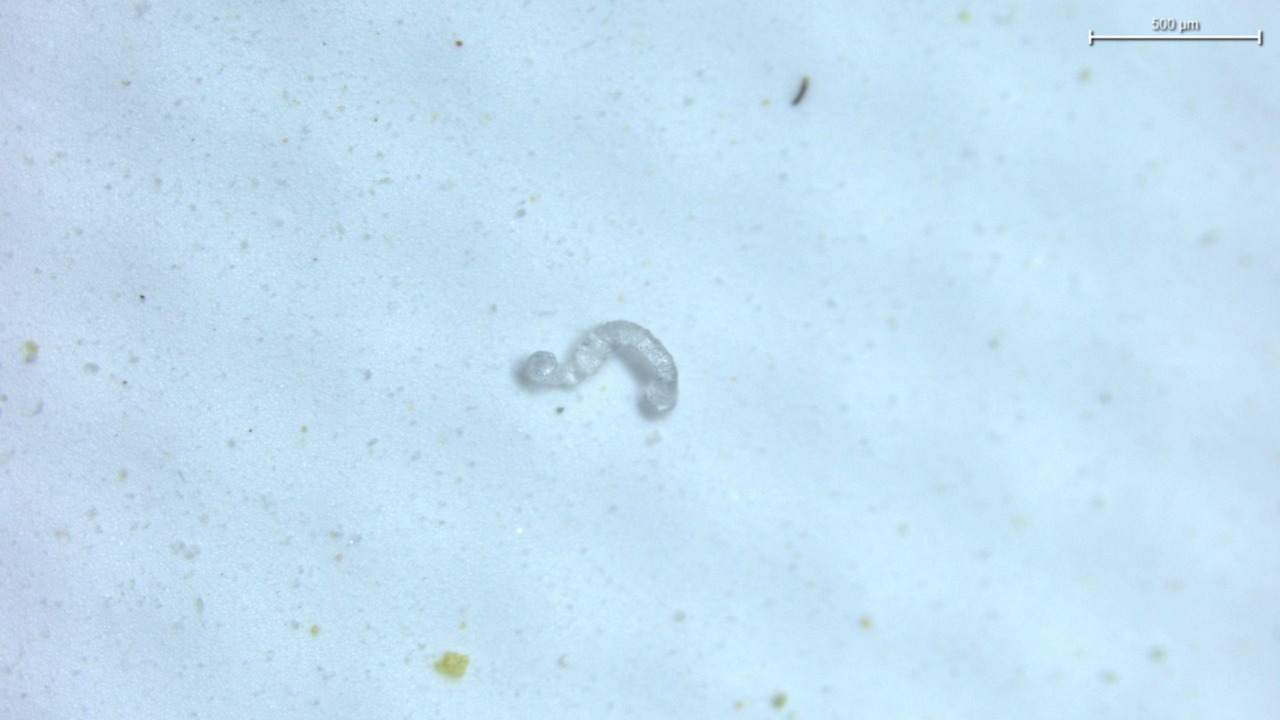microplastic_fragment: (515, 320, 678, 418)
